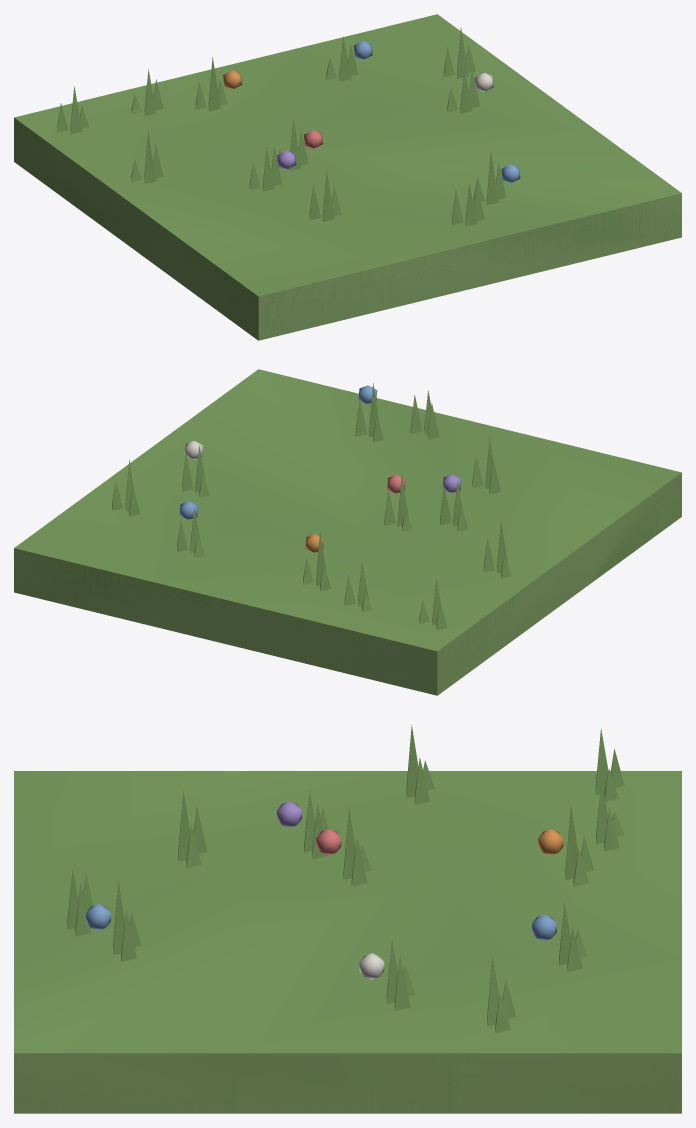
Rendered from terrain.grass.glb.
3 renders of one model, top to bottom at view 1: azimuth 30°, elevation 25°; view 2: azimuth 150°, elevation 25°; view 3: azimuth 270°, elevation 25°, orthographic. The views are drawn at different scales.
Visible parts, largest first — view 1: terrain.grass.v1.mesh, terrain.grass.v0.mesh, terrain.grass.v2.mesh; view 2: terrain.grass.v1.mesh, terrain.grass.v0.mesh, terrain.grass.v2.mesh; view 3: terrain.grass.v1.mesh, terrain.grass.v0.mesh, terrain.grass.v2.mesh.
Boxes of the visible parts, x1,y1,x2,y2 form: terrain.grass.v1.mesh: [14, 14, 681, 340]; terrain.grass.v0.mesh: [14, 67, 681, 340]; terrain.grass.v2.mesh: [14, 27, 681, 329]; terrain.grass.v1.mesh: [14, 369, 681, 695]; terrain.grass.v0.mesh: [14, 438, 681, 695]; terrain.grass.v2.mesh: [14, 390, 681, 690]; terrain.grass.v1.mesh: [14, 725, 681, 1113]; terrain.grass.v0.mesh: [14, 791, 681, 1113]; terrain.grass.v2.mesh: [14, 728, 681, 1113].
Size of the model in its own units: 1 by 0.2194 by 1.
